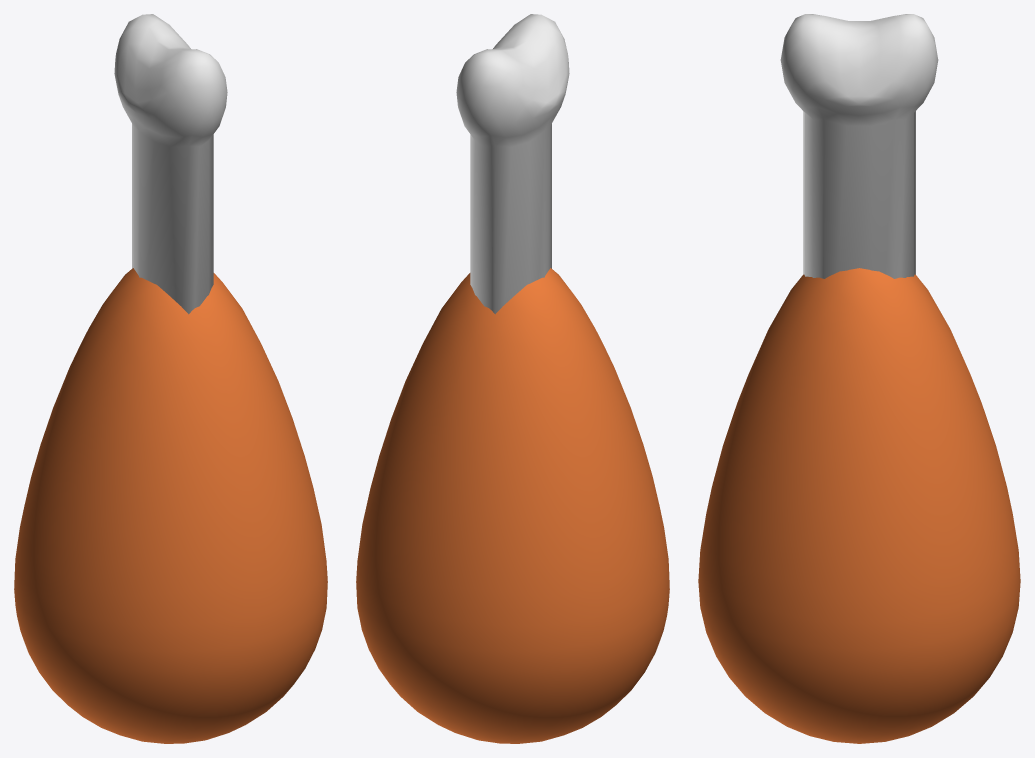
The model's file is tavuk.fbx.
3 renders of one model, left to right at view 1: azimuth 30°, elevation 25°; view 2: azimuth 150°, elevation 25°; view 3: azimuth 270°, elevation 25°, orthographic. The views are drawn at different scales.
Visible parts, largest first — view 1: Icosphere.001, Icosphere; view 2: Icosphere.001, Icosphere; view 3: Icosphere.001, Icosphere.
Boxes of the visible parts, box(x1,y1,x2,y2) form: Icosphere.001: box(14, 268, 327, 743); Icosphere: box(114, 14, 227, 314); Icosphere.001: box(356, 268, 669, 743); Icosphere: box(456, 14, 569, 314); Icosphere.001: box(698, 268, 1020, 743); Icosphere: box(780, 14, 938, 278).
Bounding box in the file's own units: 409 × 999 × 409.
